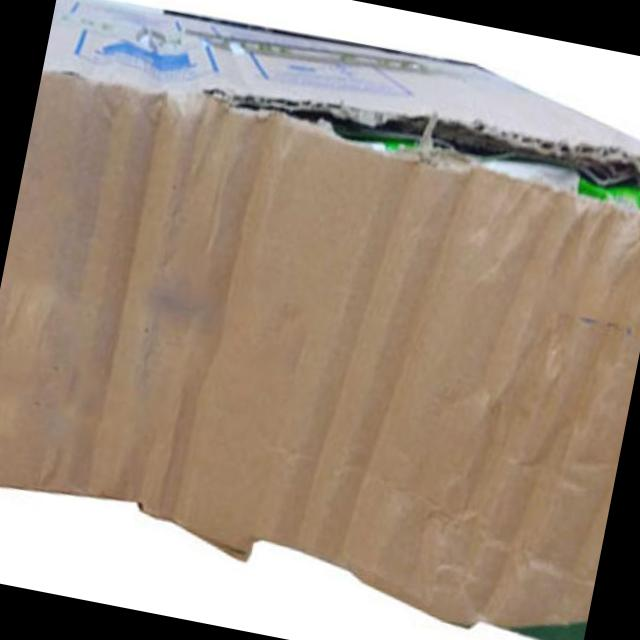box: (0, 0, 640, 640)
crushed: (6, 94, 640, 631)
opened: (200, 72, 640, 222)
